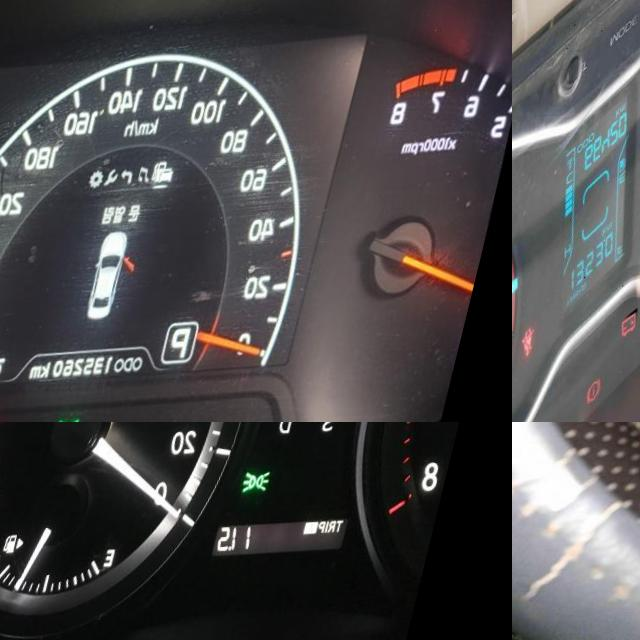SideLamp: (264, 476, 295, 501)
